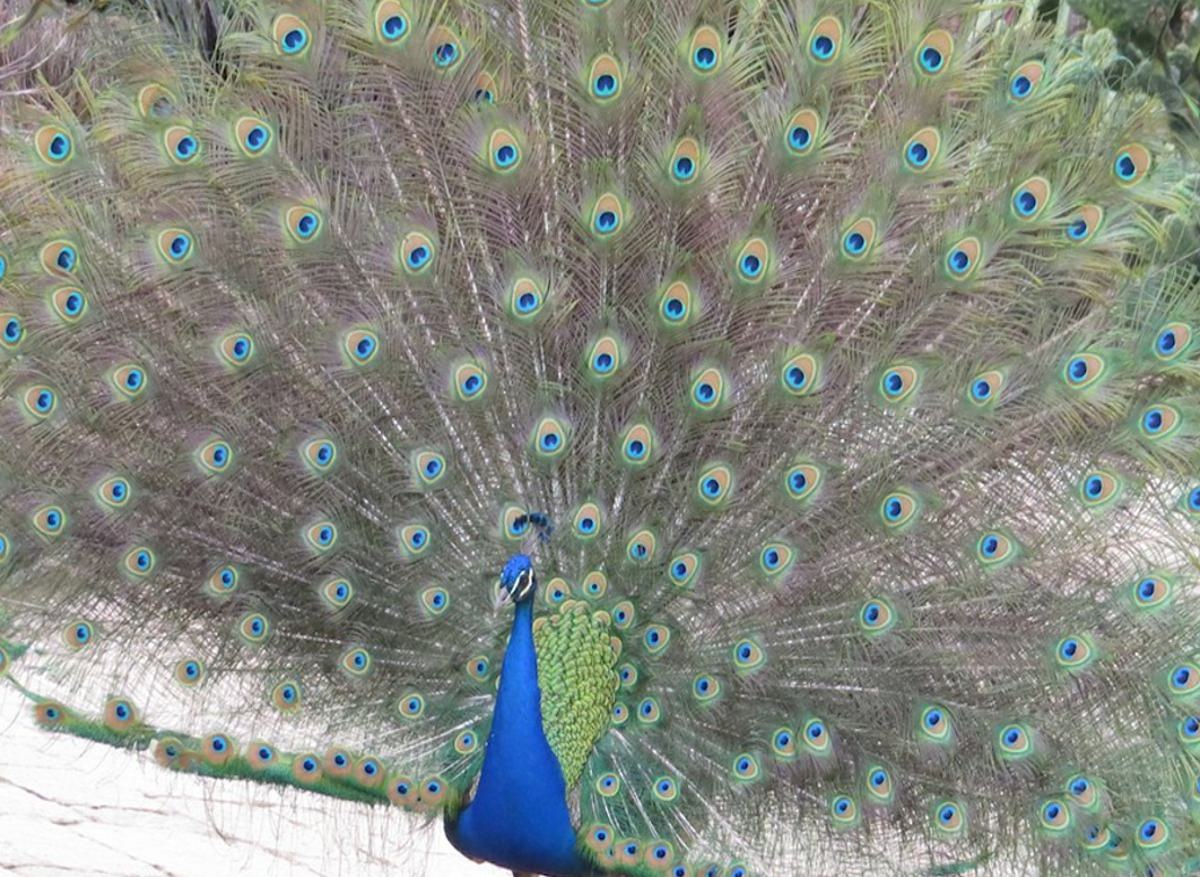peacock: (27, 1, 1200, 840)
